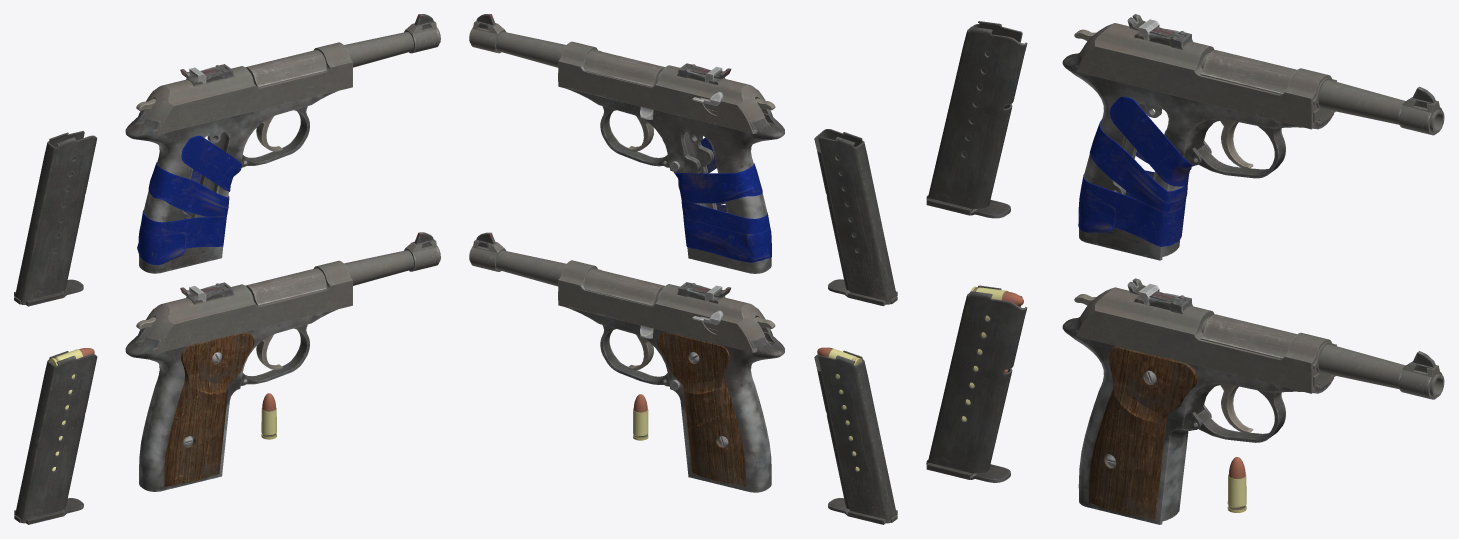
File: service_pistol.glb
3 views of the same model, side by side, from view 1: azimuth 30°, elevation 25°; view 2: azimuth 150°, elevation 25°; view 3: azimuth 330°, elevation 25° (orthographic). The views are drawn at different scales.
Parts seen in each view (by area): view 1: service_pistol_pistol_b, service_pistol_pistol_a, service_pistol_magazine_loaded, service_pistol_magazine_empty, service_pistol_slide_a, service_pistol_slide_b, service_pistol_bullet; view 2: service_pistol_pistol_b, service_pistol_pistol_a, service_pistol_magazine_loaded, service_pistol_magazine_empty, service_pistol_slide_b, service_pistol_slide_a, service_pistol_bullet; view 3: service_pistol_pistol_a, service_pistol_pistol_b, service_pistol_magazine_loaded, service_pistol_magazine_empty, service_pistol_slide_b, service_pistol_slide_a, service_pistol_bullet, service_pistol_trigger_b, service_pistol_trigger_a.
Boxes of the visible parts, x1,y1,x2,y2 form: service_pistol_pistol_b: [125, 14, 440, 273]; service_pistol_pistol_a: [125, 232, 440, 491]; service_pistol_magazine_loaded: [14, 348, 97, 524]; service_pistol_magazine_empty: [14, 131, 97, 306]; service_pistol_slide_a: [141, 260, 352, 352]; service_pistol_slide_b: [141, 42, 352, 134]; service_pistol_bullet: [261, 393, 276, 439]; service_pistol_pistol_b: [469, 14, 784, 273]; service_pistol_pistol_a: [469, 232, 784, 492]; service_pistol_magazine_loaded: [814, 347, 897, 524]; service_pistol_magazine_empty: [814, 129, 897, 306]; service_pistol_slide_b: [558, 41, 772, 133]; service_pistol_slide_a: [558, 260, 772, 352]; service_pistol_bullet: [633, 394, 648, 440]; service_pistol_pistol_a: [1062, 314, 1444, 524]; service_pistol_pistol_b: [1062, 50, 1444, 260]; service_pistol_magazine_loaded: [926, 285, 1027, 482]; service_pistol_magazine_empty: [926, 21, 1027, 218]; service_pistol_slide_b: [1075, 14, 1336, 129]; service_pistol_slide_a: [1075, 278, 1336, 393]; service_pistol_bullet: [1227, 457, 1246, 512]; service_pistol_trigger_b: [1220, 120, 1253, 169]; service_pistol_trigger_a: [1220, 384, 1253, 433].
Bounding box in the file's own units: 0.3016 × 0.2807 × 0.0318.
Materials: 1 (1 with a texture image).
